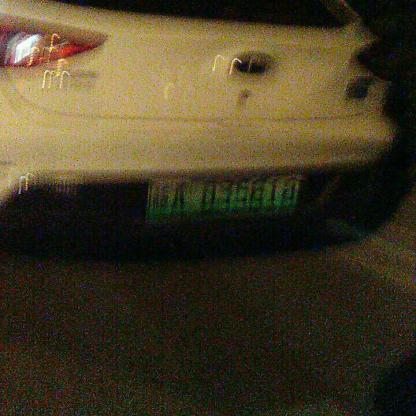lp: (148, 174, 303, 218)
